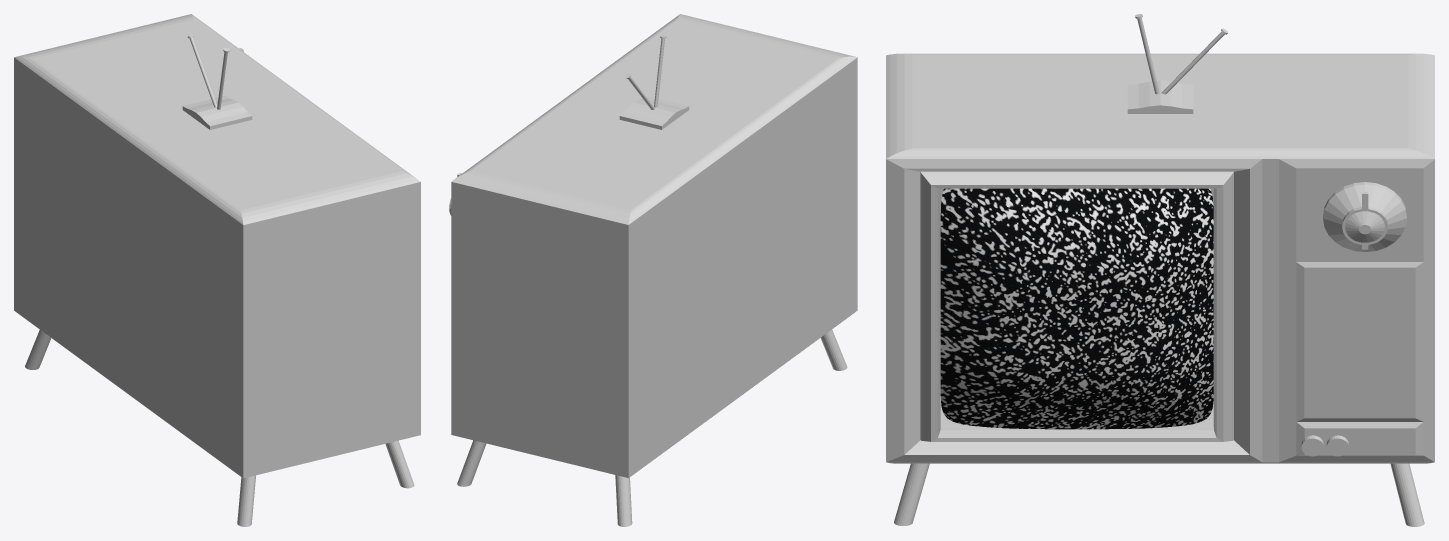
Rendered from television 1.fbx.
The picture shows the model from 3 angles, left to right: view 1: azimuth 30°, elevation 25°; view 2: azimuth 150°, elevation 25°; view 3: azimuth 270°, elevation 25°; orthographic projection. The views are drawn at different scales.
Visible parts, largest first — view 1: Cube.002; view 2: Cube.002; view 3: Cube.002, Cube.001.
Boxes of the visible parts, x1,y1,x2,y2 form: Cube.002: (14,14,420,526); Cube.002: (449,14,857,526); Cube.002: (886,14,1434,526); Cube.001: (940,188,1213,429).
Size of the model in its own units: 140 by 252 by 273.
